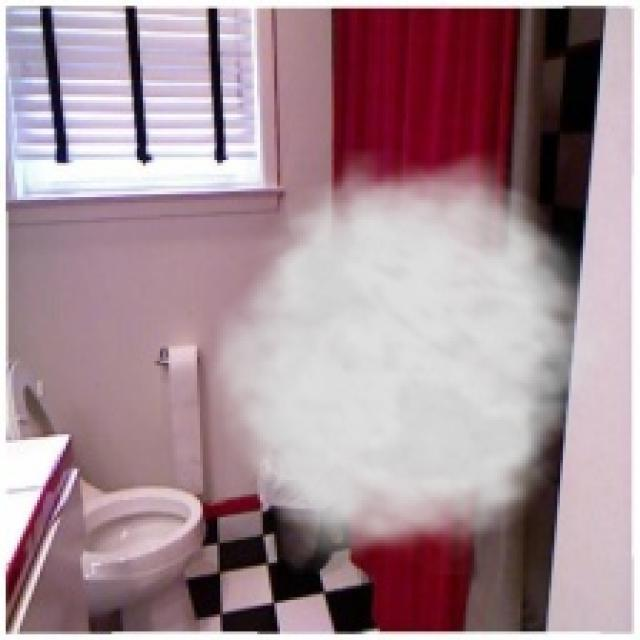Smoke: (200, 148, 620, 574)
